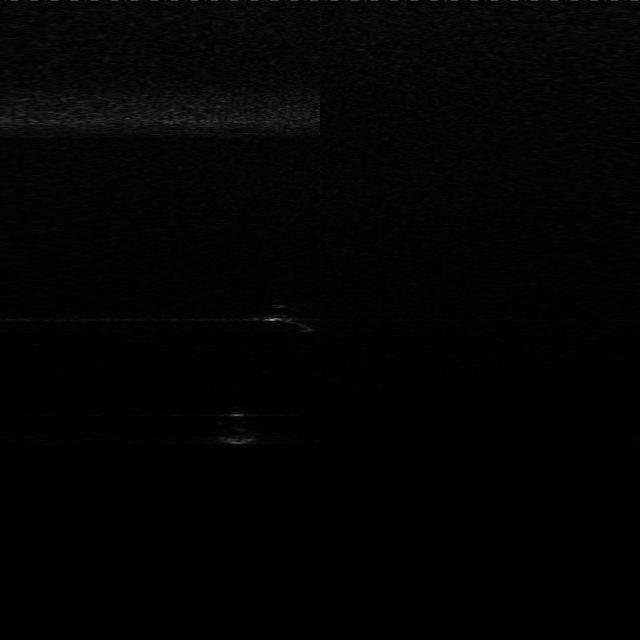ball: (207, 404, 269, 446)
tyre: (258, 300, 328, 337)
